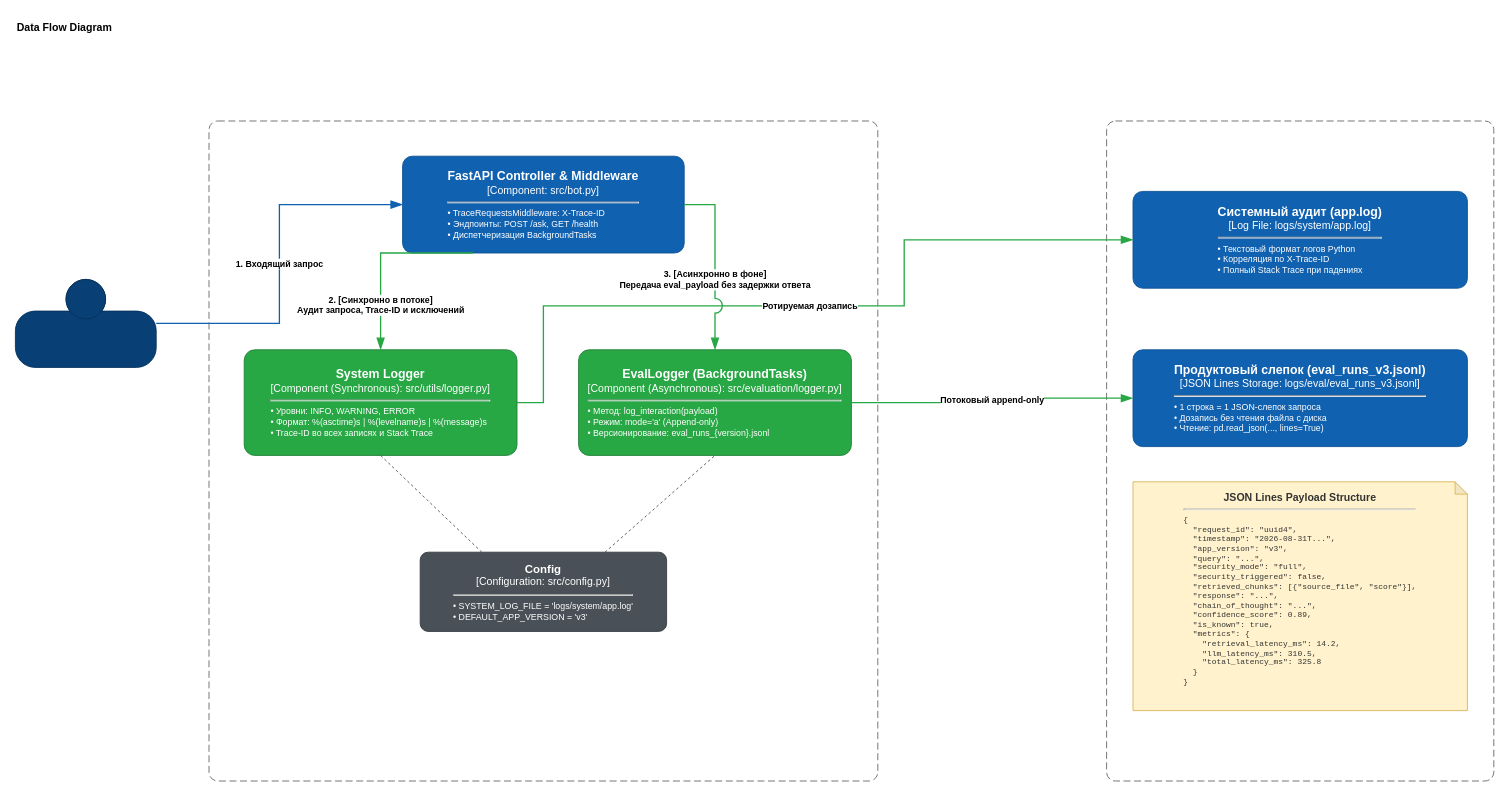
This 1509x796 diagram has some shape labels left out. Here are the shapes that lost their labels. From the top down, the box of each, then its label:
(15, 279, 156, 367): Клиент / Пользователь [Person]
(208, 120, 878, 781): RAG Backend Application [FastAPI Process]
(1106, 120, 1494, 781): Файловая система (logs/) [Docker Volume / Storage]
